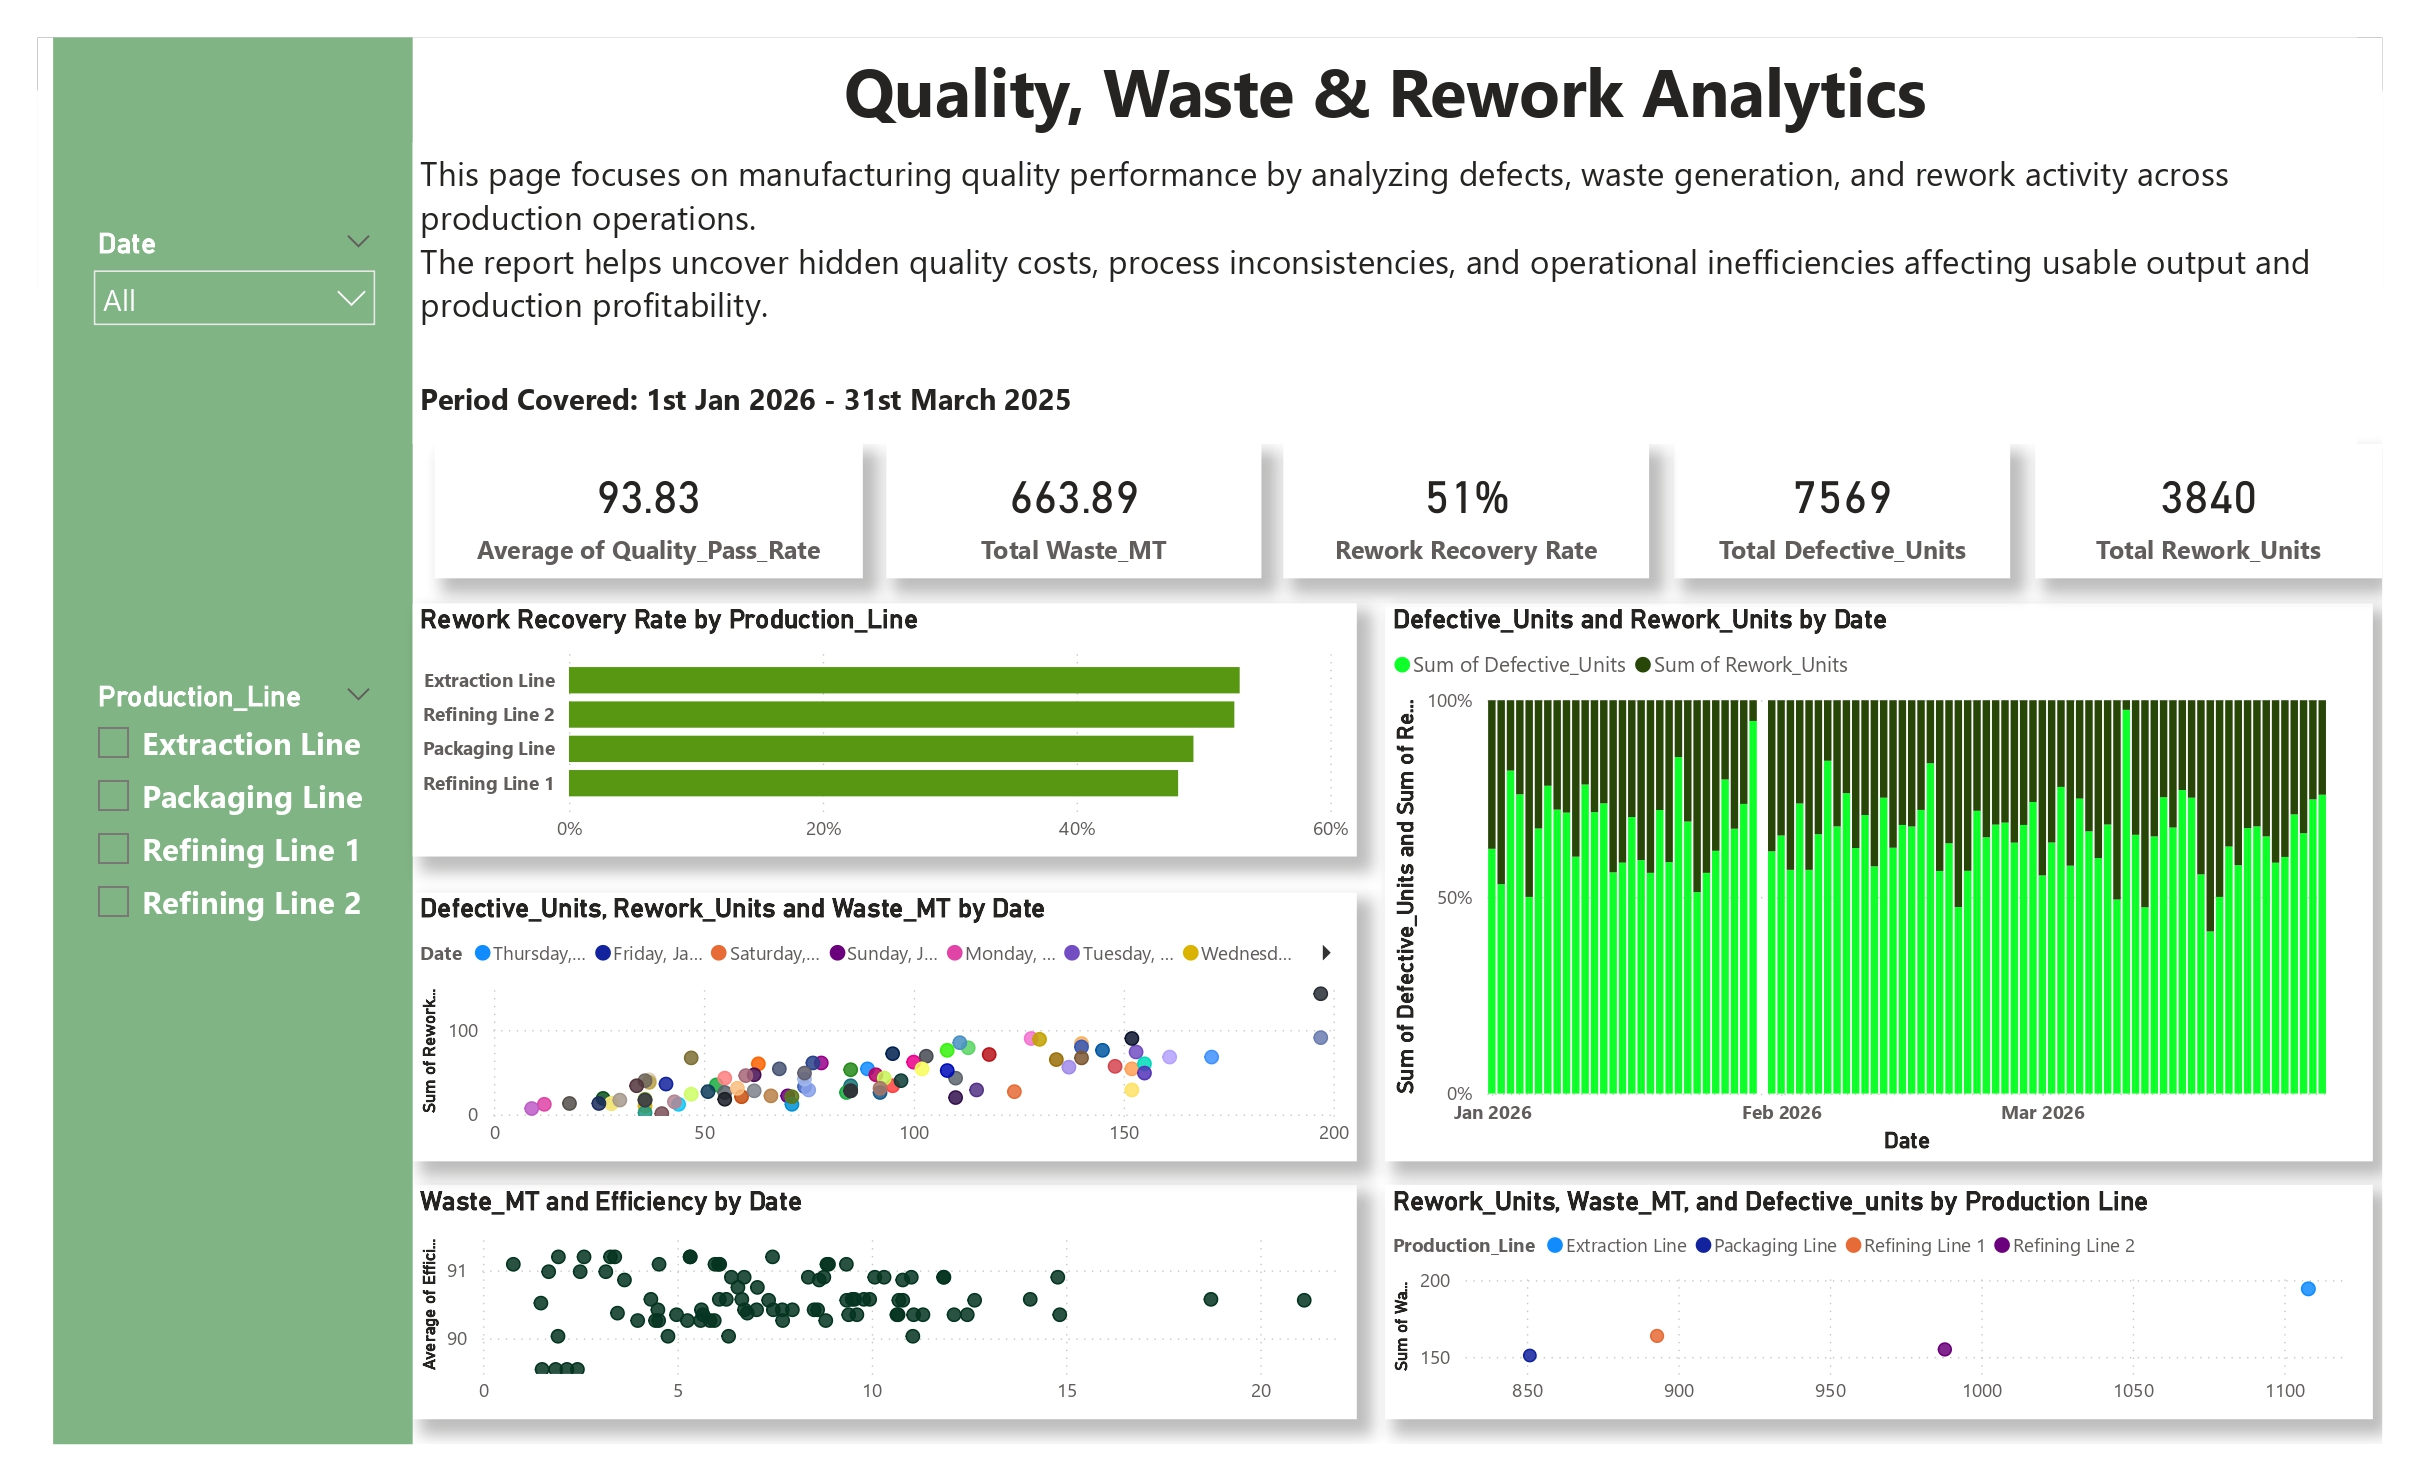

Layout of this report page (visuals, bound fields, positions):
{"tool":"powerbi","page":{"name":"Quality Analytics","canvas":[1500,900],"ordinal":3},"visuals":[{"type":"textbox","box":[240.2,0,1244.1,84.6],"z":0},{"type":"hundredPercentStackedColumnChart","title":"Defective_Units and Rework_Units by Date","fields":{"Category":["Quality_Control.Date"],"Y":["Sum(Quality_Control.Defective_Units)","Sum(Quality_Control.Rework_Units)"]},"box":[862.2,362.2,631.9,356.3],"z":1000},{"type":"scatterChart","title":"Waste_MT and Efficiency by Date","fields":{"X":["Sum(Quality_Control.Waste_MT)"],"Y":["Avg(Production_Data.Efficiency_Percent)"],"Category":["Quality_Control.Date"]},"box":[240.2,734.3,604.3,149.6],"z":2000},{"type":"scatterChart","title":"Rework_Units, Waste_MT, and Defective_units by Production Line","fields":{"Series":["Quality_Control.Production_Line"],"Y":["Sum(Quality_Control.Waste_MT)"],"X":["Sum(Quality_Control.Rework_Units)"],"Size":["Sum(Quality_Control.Defective_Units)"]},"box":[862.2,734.3,631.9,149.6],"z":3000},{"type":"scatterChart","title":"Defective_Units, Rework_Units and Waste_MT by Date ","fields":{"X":["Sum(Quality_Control.Defective_Units)"],"Y":["Sum(Quality_Control.Rework_Units)"],"Category":["Quality_Control.Date"],"Series":["Quality_Control.Date"]},"box":[240.2,547.2,604.3,171.3],"z":4000},{"type":"card","fields":{"Values":["Avg(Quality_Control.Quality_Pass_Rate_Percent)"]},"box":[253.9,259.8,273.6,86.6],"z":5000},{"type":"card","fields":{"Values":["Sum(Quality_Control.Waste_MT)"]},"box":[543.3,259.8,240.2,86.6],"z":6000},{"type":"card","fields":{"Values":["Sum(Quality_Control.Defective_Units)"]},"box":[1047.2,259.8,214.6,86.6],"z":7000},{"type":"card","fields":{"Values":["Sum(Quality_Control.Rework_Units)"]},"box":[1277.6,259.8,222.4,86.6],"z":8000},{"type":"card","fields":{"Values":["Quality_Control.Rework Recovery Rate"]},"box":[797.2,259.8,234.3,86.6],"z":9000},{"type":"textbox","box":[9.8,0,230.3,899.6],"z":10000},{"type":"slicer","fields":{"Values":["Quality_Control.Date"]},"box":[25.6,116.1,200.8,202.8],"z":11000},{"type":"slicer","fields":{"Values":["Quality_Control.Production_Line"]},"box":[25.6,405.5,200.8,218.5],"z":12000},{"type":"textbox","box":[240.2,66.9,1244.1,192.9],"z":13000},{"type":"barChart","fields":{"Category":["Quality_Control.Production_Line"],"Y":["Quality_Control.Rework Recovery Rate"]},"box":[240.2,362.2,604.3,161.4],"z":14000}]}

Visuals, with their boxes on the page's 1500x900 design canvas (x1, y1, x2, y2). These are canvas units, not pixel positions in the 2420x1482 screenshot, which may show the page scaled, cropped or inside an application window:
textbox: 240/0/1484/85
"Defective_Units and Rework_Units by Date" hundredPercentStackedColumnChart: 862/362/1494/718
"Waste_MT and Efficiency by Date" scatterChart: 240/734/844/884
"Rework_Units, Waste_MT, and Defective_units by Production Line" scatterChart: 862/734/1494/884
"Defective_Units, Rework_Units and Waste_MT by Date " scatterChart: 240/547/844/718
card - Avg(Quality_Control.Quality_Pass_Rate_Percent): 254/260/528/346
card - Sum(Quality_Control.Waste_MT): 543/260/784/346
card - Sum(Quality_Control.Defective_Units): 1047/260/1262/346
card - Sum(Quality_Control.Rework_Units): 1278/260/1500/346
card - Quality_Control.Rework Recovery Rate: 797/260/1032/346
textbox: 10/0/240/900
slicer - Quality_Control.Date: 26/116/226/319
slicer - Quality_Control.Production_Line: 26/406/226/624
textbox: 240/67/1484/260
barChart - Quality_Control.Production_Line x Quality_Control.Rework Recovery Rate: 240/362/844/524
